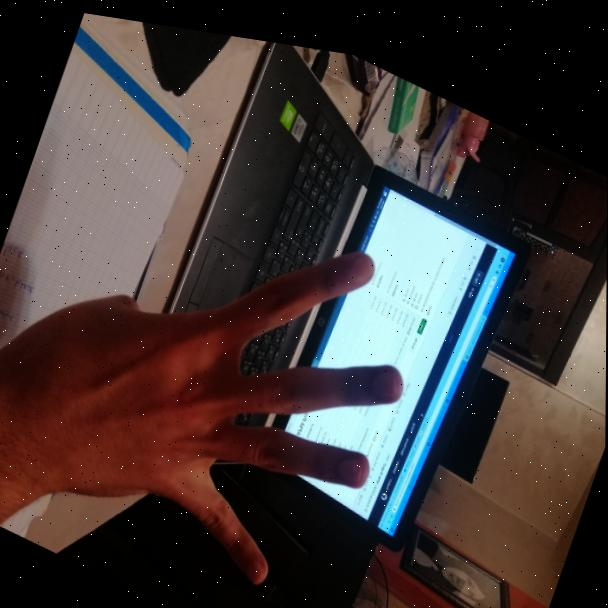four: (0, 113, 445, 608)
